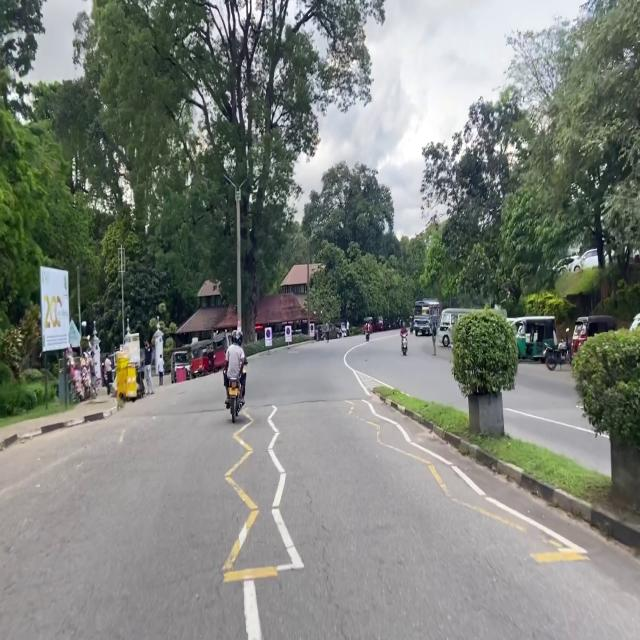bus: (438, 305, 507, 347), (413, 299, 440, 335)
car: (171, 351, 190, 383), (320, 323, 340, 340)
motorcycle: (544, 328, 572, 370), (228, 376, 243, 423), (402, 335, 407, 356), (365, 331, 369, 342)
person: (223, 328, 247, 408), (144, 340, 154, 395), (104, 354, 113, 395), (89, 350, 96, 395), (431, 324, 437, 356), (158, 354, 164, 386), (400, 322, 407, 337), (325, 322, 329, 342), (346, 321, 349, 336), (366, 322, 370, 332)
three wheeler: (516, 316, 557, 360), (572, 316, 616, 354), (190, 340, 213, 377), (212, 332, 230, 371), (335, 322, 347, 338), (363, 316, 373, 334), (376, 316, 383, 331)
